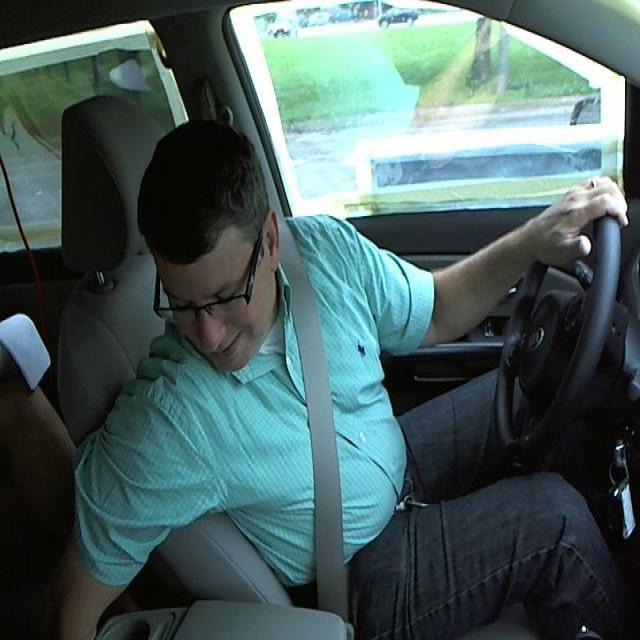seatbelt: (273, 272, 376, 612)
